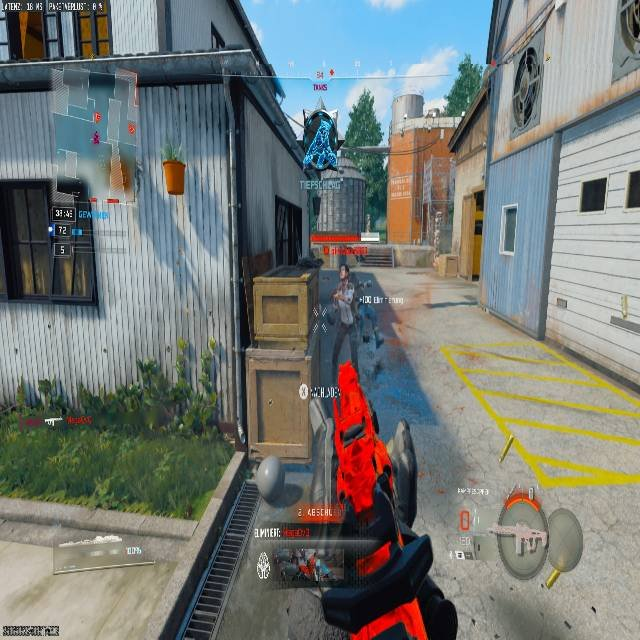head: (340, 251, 355, 277), (339, 265, 350, 284)
player: (308, 250, 418, 423), (330, 265, 384, 348)
